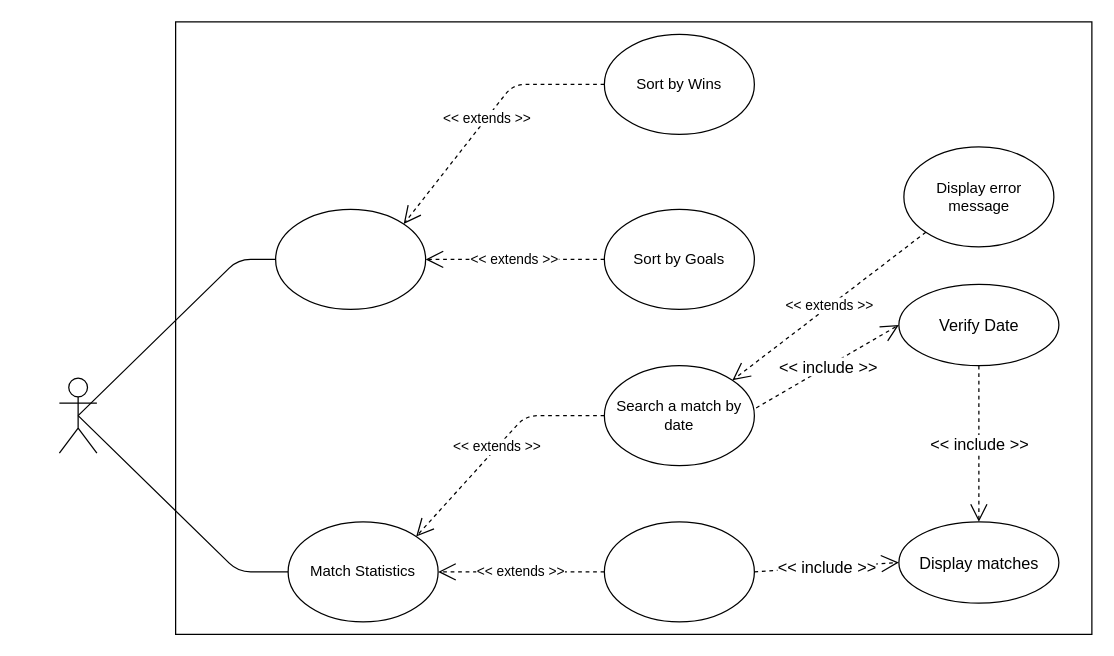
Some shapes in this 1114 by 656 pixel diagram are drawn without their labels. Here are the shapes that lost their labels. From the top down, the box of each, then its label:
(274, 208, 426, 309): Team Statistics
(58, 377, 97, 453): League Manager
(603, 521, 754, 622): Generate Match
